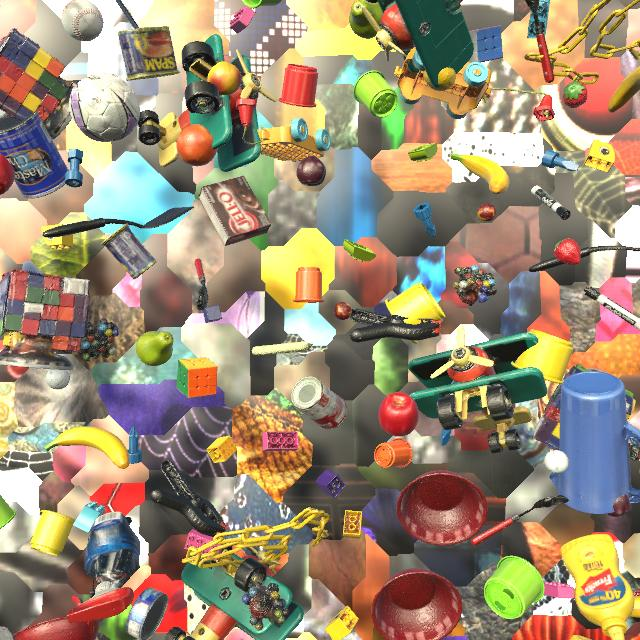ycb_002_master_chef_can: (0, 111, 69, 199)
ycb_005_tomato_soup_can: (291, 376, 348, 430), (0, 626, 15, 640)
ycb_006_mustard_bottle: (561, 534, 635, 640), (570, 635, 591, 640)
ycb_007_tuna_fish_can: (126, 588, 168, 640)
ycb_008_pudding_box: (198, 175, 271, 246)
ycb_010_potted_meat_can: (118, 26, 180, 81), (101, 224, 157, 280)
ycb_011_banana: (44, 426, 130, 469), (450, 153, 510, 195), (574, 589, 640, 618), (608, 66, 640, 113)
ycb_012_strawberry: (554, 238, 581, 265), (563, 80, 588, 108)
ycb_013_apple: (378, 392, 419, 437), (0, 154, 15, 195)
ycb_014_lemon: (423, 68, 456, 91)
ycb_015_peach: (207, 61, 242, 96)
ycb_016_pear: (136, 331, 174, 366), (349, 0, 383, 39)
ycb_017_orange: (177, 124, 218, 166)
ycb_018_plum: (296, 156, 326, 186), (607, 494, 630, 517)
